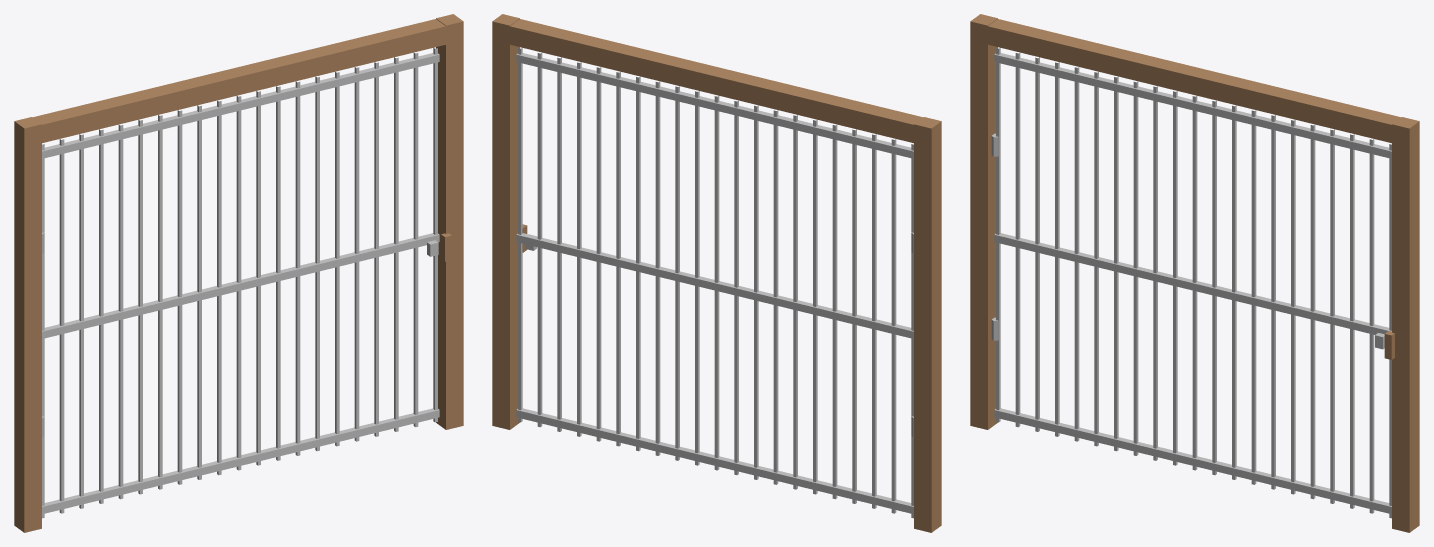
The model's file is gate.glb.
3 renders of one model, left to right at view 1: azimuth 30°, elevation 25°; view 2: azimuth 150°, elevation 25°; view 3: azimuth 330°, elevation 25°, orthographic.
Visible parts, largest first — view 1: bars, frame; view 2: bars, frame; view 3: bars, frame.
Boxes of the visible parts, box(x1,y1,x2,y2) form: bars: box(42, 47, 439, 518); frame: box(14, 14, 463, 532); bars: box(516, 47, 913, 518); frame: box(492, 14, 941, 532); bars: box(991, 47, 1391, 518); frame: box(970, 14, 1419, 532).
Size of the model in its own units: 3.75 by 3.3 by 0.195.
